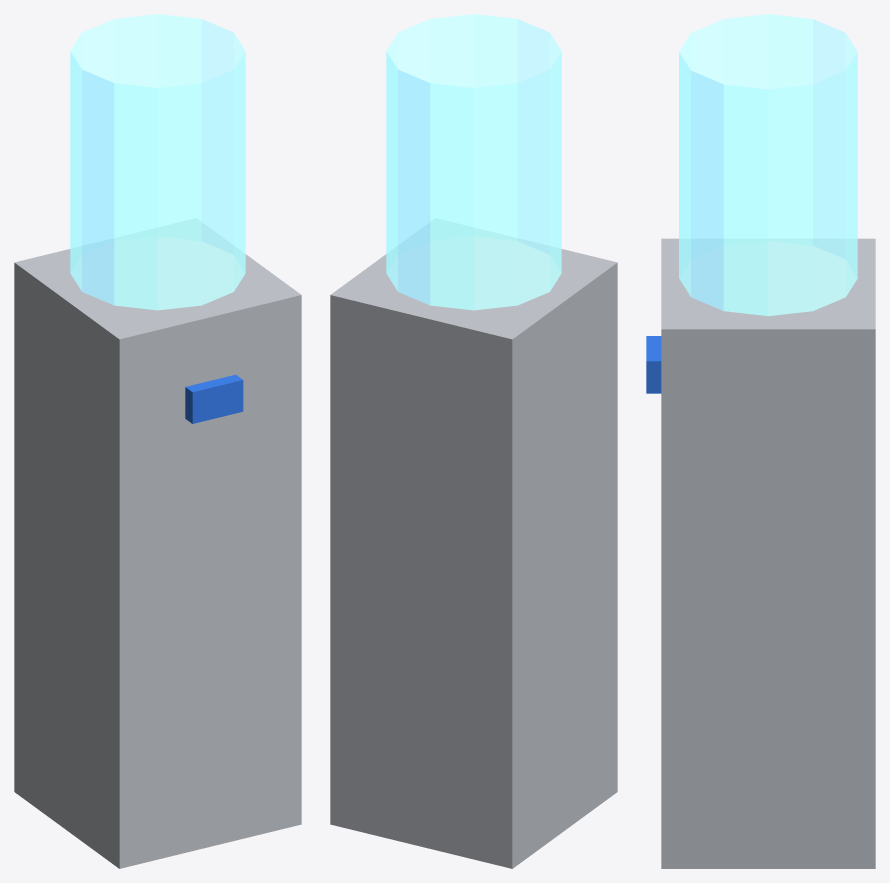
Rendered from water_cooler.glb.
3 renders of one model, left to right at view 1: azimuth 30°, elevation 25°; view 2: azimuth 150°, elevation 25°; view 3: azimuth 270°, elevation 25°, orthographic.
Parts seen in each view (by area): view 1: body, bottle, tap; view 2: body, bottle; view 3: body, bottle, tap.
Boxes of the visible parts, x1,y1,x2,y2 form: body: (14,218,301,868); bottle: (70,14,245,310); tap: (185,374,243,423); body: (330,218,617,868); bottle: (386,14,561,310); body: (661,238,875,868); bottle: (679,14,857,316); tap: (646,336,661,393).
Bounding box in the file's own units: 0.36 × 1.43 × 0.385.
